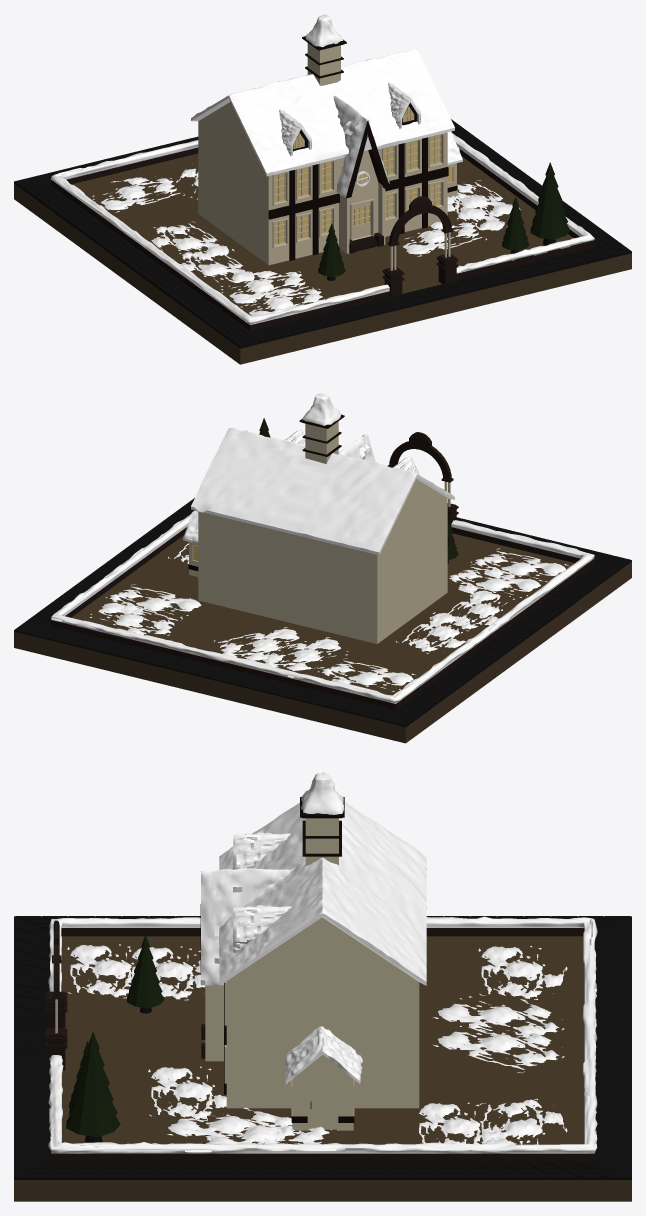
File: 03_House.FBX
3 views of the same model, one above another, from view 1: azimuth 30°, elevation 25°; view 2: azimuth 150°, elevation 25°; view 3: azimuth 270°, elevation 25° (orthographic). The views are drawn at different scales.
Parts seen in each view (by area): view 1: Base, House, Box013, Paved, Ice_Paved_Blocks, Paved_Blocks, Group002, Cylinder002, Plane001, Box025, Plane010, Plane006 (+17 smaller); view 2: Base, Box013, House, Paved, Ice_Paved_Blocks, Paved_Blocks, Plane005, Plane014, Plane011, Plane012, Plane006, Plane010 (+6 smaller); view 3: Base, Paved, Box013, House, Ice_Paved_Blocks, Paved_Blocks, Plane001, Cylinder002, Box016, Plane012, Plane011, Plane010 (+15 smaller).
Boxes of the visible parts, <box> form: Base: <box>14,153,631,364</box>; House: <box>191,43,462,238</box>; Box013: <box>198,102,447,265</box>; Paved: <box>14,119,631,348</box>; Ice_Paved_Blocks: <box>51,133,594,325</box>; Paved_Blocks: <box>51,147,594,330</box>; Group002: <box>274,135,441,245</box>; Cylinder002: <box>530,162,570,239</box>; Plane001: <box>333,95,389,198</box>; Box025: <box>268,167,448,219</box>; Plane010: <box>92,176,184,212</box>; Plane006: <box>221,270,313,305</box>; Base: <box>14,533,631,743</box>; Box013: <box>198,479,447,643</box>; House: <box>183,421,454,571</box>; Paved: <box>14,498,631,726</box>; Ice_Paved_Blocks: <box>51,514,594,703</box>; Paved_Blocks: <box>51,527,594,709</box>; Plane005: <box>470,548,568,582</box>; Plane014: <box>105,584,201,617</box>; Plane011: <box>256,637,348,670</box>; Plane012: <box>214,627,306,660</box>; Plane006: <box>449,564,542,597</box>; Plane010: <box>318,658,415,691</box>; Base: <box>14,936,631,1201</box>; Paved: <box>14,916,631,1179</box>; Box013: <box>205,917,419,1108</box>; House: <box>200,802,426,1129</box>; Ice_Paved_Blocks: <box>48,916,597,1153</box>; Paved_Blocks: <box>51,928,594,1161</box>; Plane001: <box>200,868,290,985</box>; Cylinder002: <box>66,1032,120,1137</box>; Box016: <box>291,1055,354,1130</box>; Plane012: <box>432,1024,564,1073</box>; Plane011: <box>433,996,564,1044</box>; Plane010: <box>478,946,567,999</box>.
Size of what is drawn, in the model's own units: 481 by 255 by 481.
